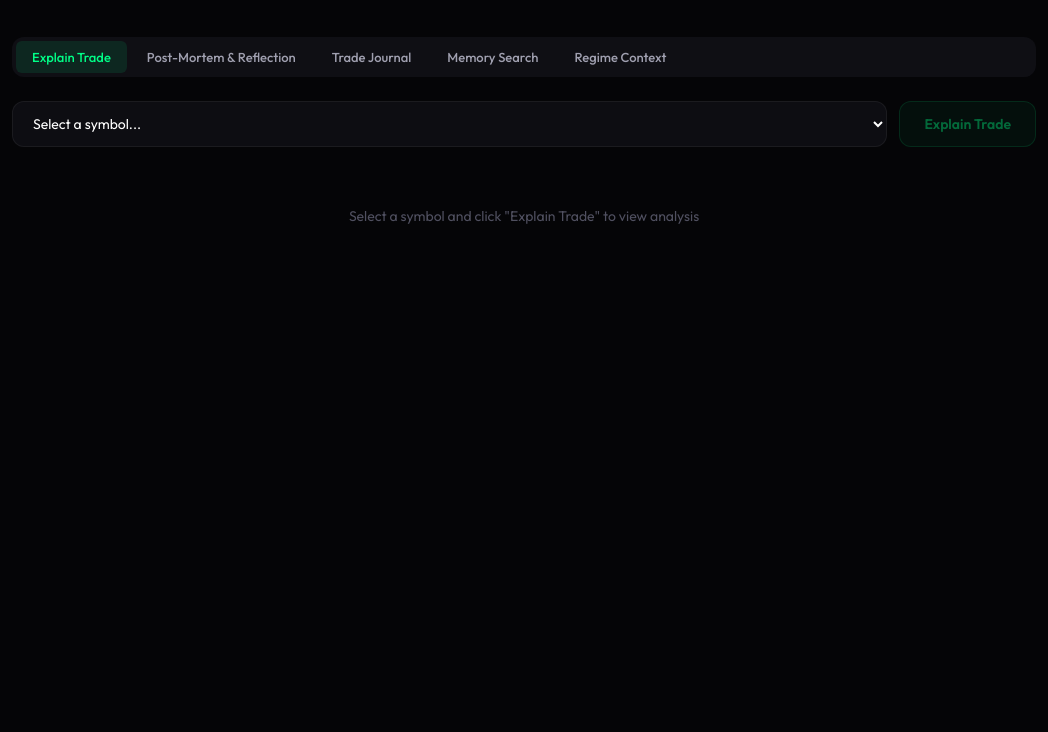
Test case: TradeIntelligence - Scenario 2: Trade Explanation Flow › Displays similar historical trades
Select "RELIANCE" in the dropdown at (450, 124), box [12,101,887,147]
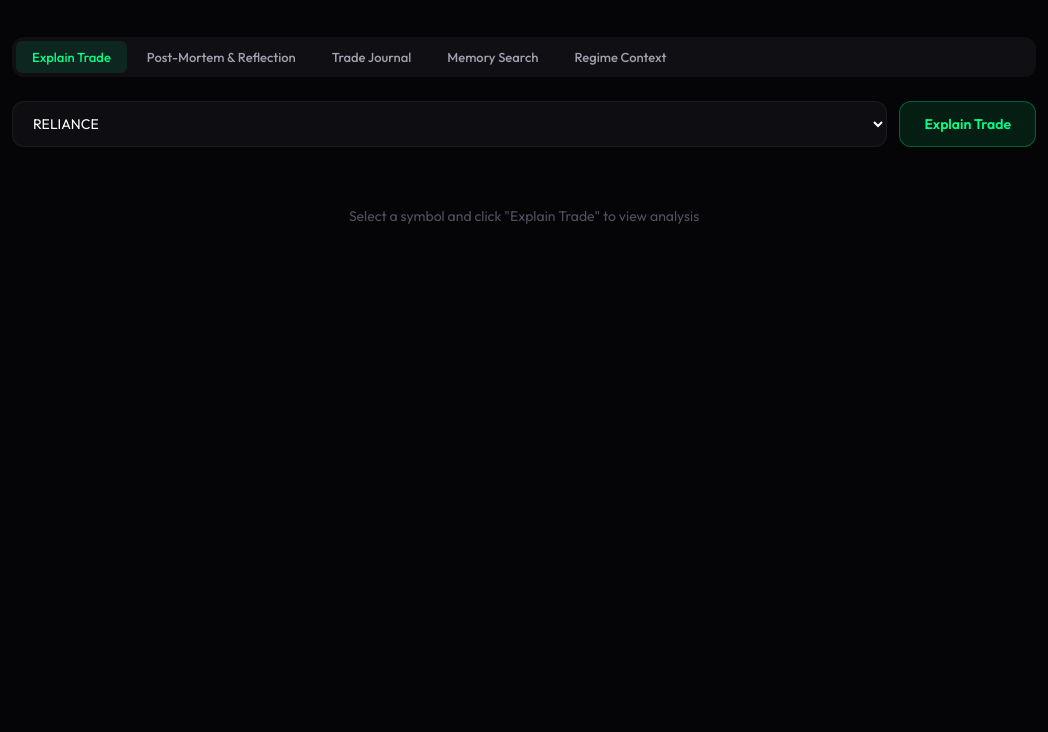
Click the 2nd button "Explain Trade" at (968, 124), box [899,101,1036,147]
(page scrolled)
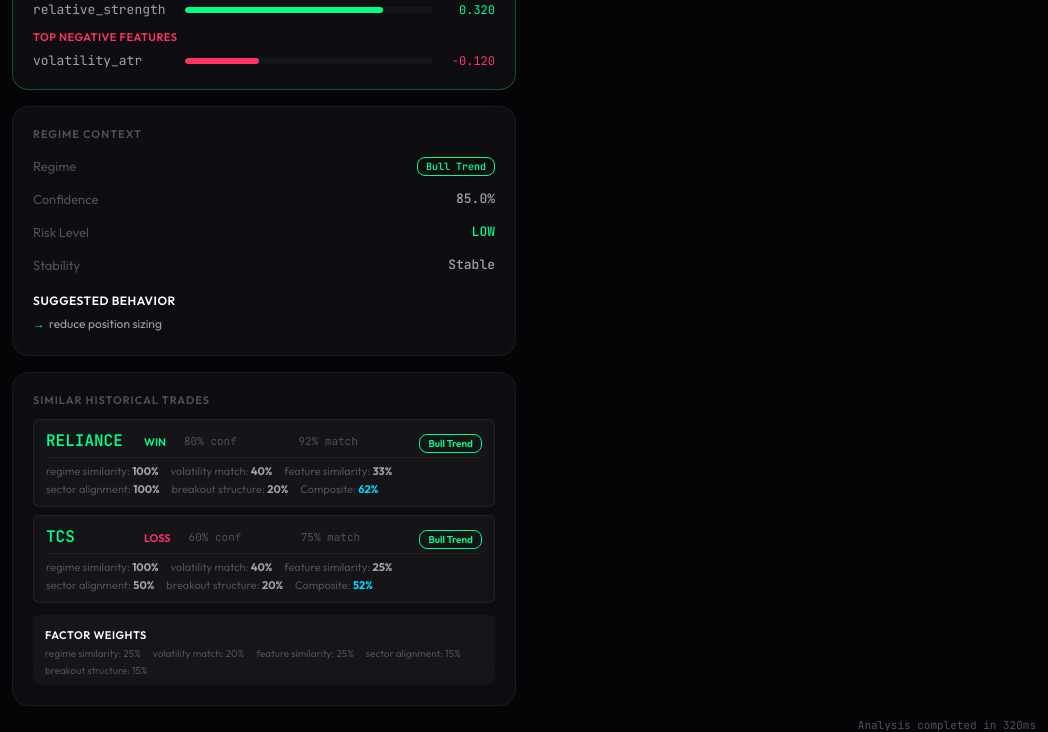
Expected: the text "Similar Historical Trades" is shown, [33,393,210,407]
